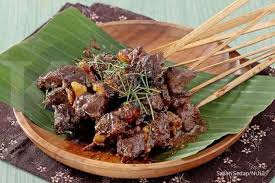sate: (32, 38, 220, 158)
